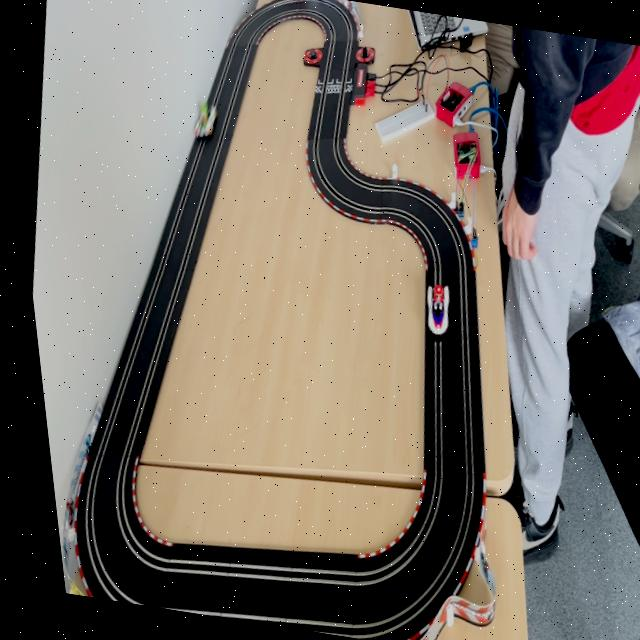mario: (411, 282, 450, 340)
yoshi: (186, 100, 223, 144)
